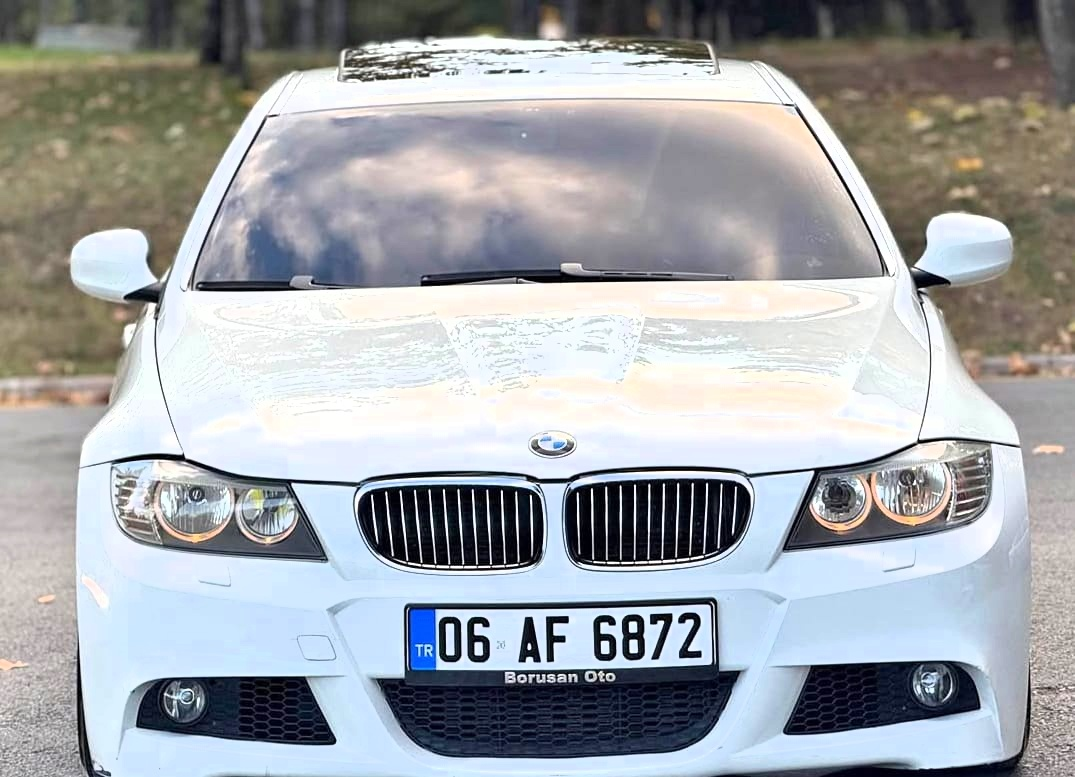plaka: (427, 597, 710, 676)
